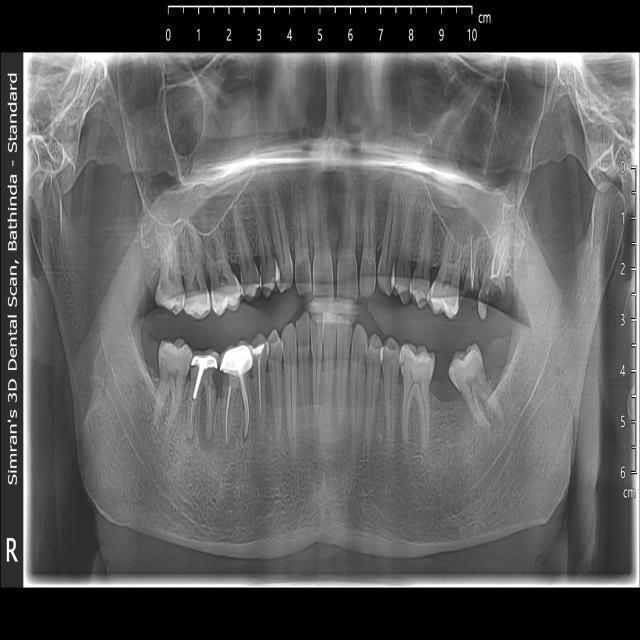dentin-curugu: (478, 277, 509, 321), (207, 363, 232, 393)
dolgu: (190, 349, 219, 375), (252, 339, 269, 355)
kanal-tedavisi: (222, 375, 253, 449), (189, 371, 214, 436), (488, 232, 508, 278), (254, 357, 268, 417), (465, 241, 478, 289)
kaplama: (219, 335, 254, 376)
kirik: (453, 277, 481, 303)
